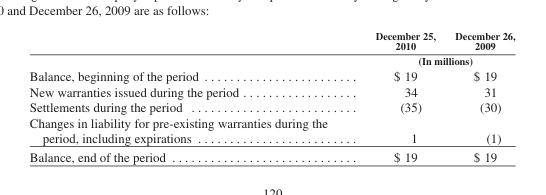table: (28, 29, 514, 164)
table column: (28, 29, 350, 164), (350, 29, 444, 164), (444, 29, 514, 164)
table column header: (28, 29, 514, 67)
table row: (28, 114, 514, 147), (28, 29, 514, 53), (28, 147, 514, 164), (28, 67, 514, 83), (28, 98, 514, 114), (28, 83, 514, 98), (28, 53, 514, 67)
table spanning cell: (350, 53, 514, 67)
